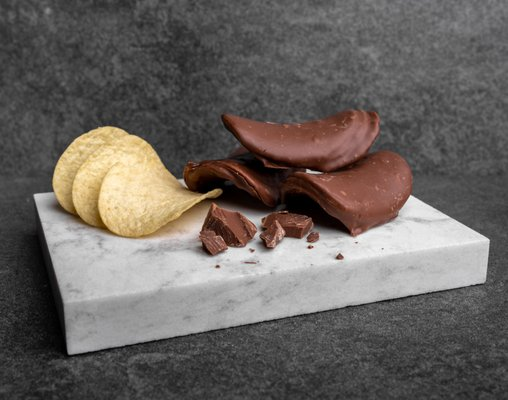pasta: (29, 108, 414, 247)
